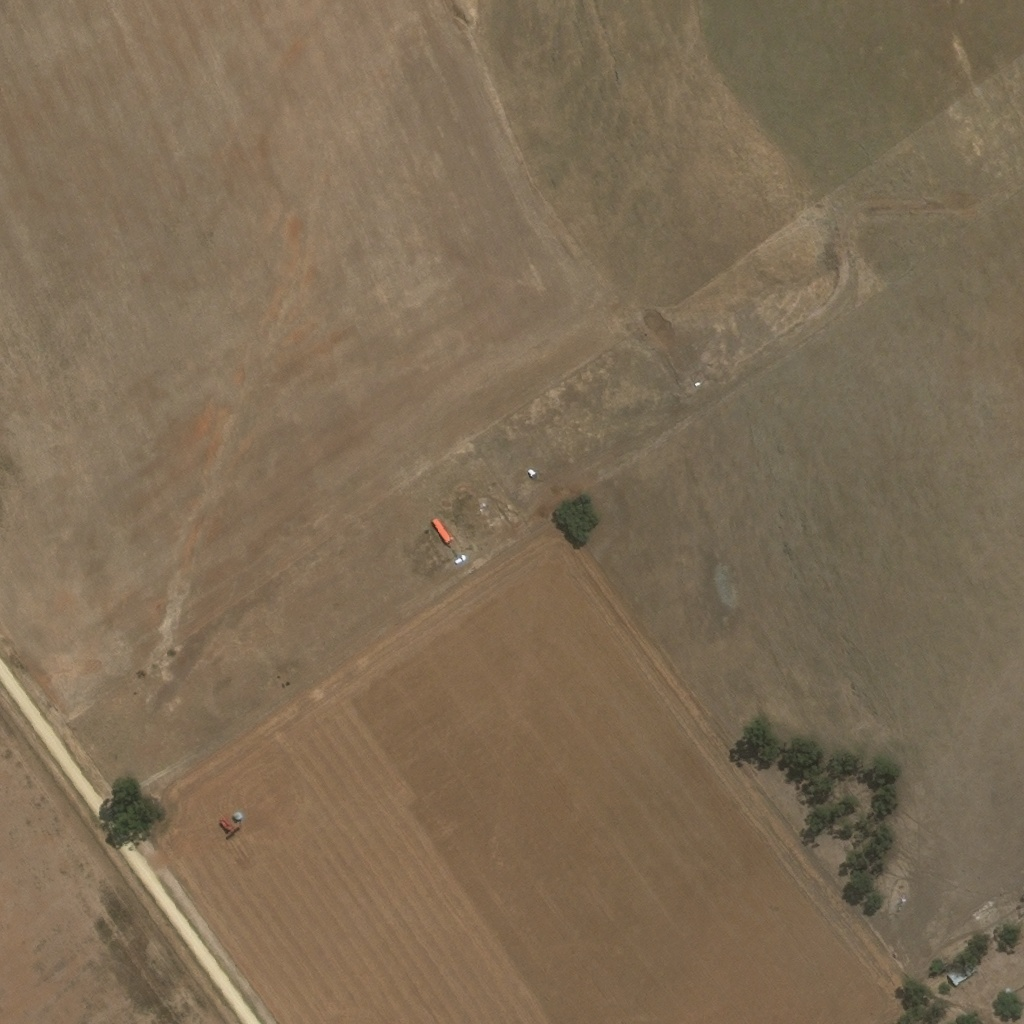0 no-damage: (946, 961, 976, 987), (430, 518, 452, 545), (453, 556, 465, 566), (689, 384, 698, 393), (526, 470, 534, 478)
4 un-classified: (309, 507, 334, 529), (301, 493, 326, 514), (261, 786, 275, 802), (998, 989, 1010, 998)
